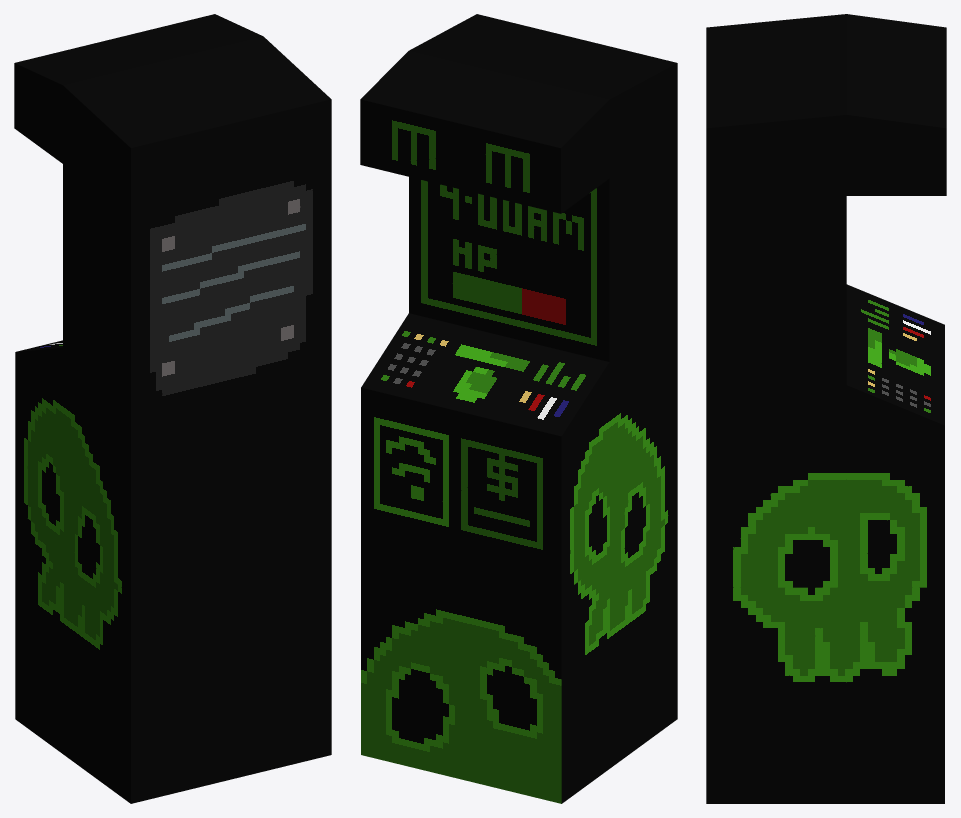
File: ManualMeltdownMachine.gltf
The picture shows the model from 3 angles, left to right: view 1: azimuth 30°, elevation 25°; view 2: azimuth 150°, elevation 25°; view 3: azimuth 270°, elevation 25°; orthographic projection. The views are drawn at different scales.
Parts seen in each view (by area): view 1: ManualMeltdownBody; view 2: ManualMeltdownBody; view 3: ManualMeltdownBody.
Part boxes in pixels (bbox=[...]): ManualMeltdownBody: bbox=[14, 14, 331, 803]; ManualMeltdownBody: bbox=[360, 14, 677, 803]; ManualMeltdownBody: bbox=[706, 14, 946, 803].
Bounding box in the file's own units: 1 × 3.19 × 1.01.
1 material, 1 textured.
